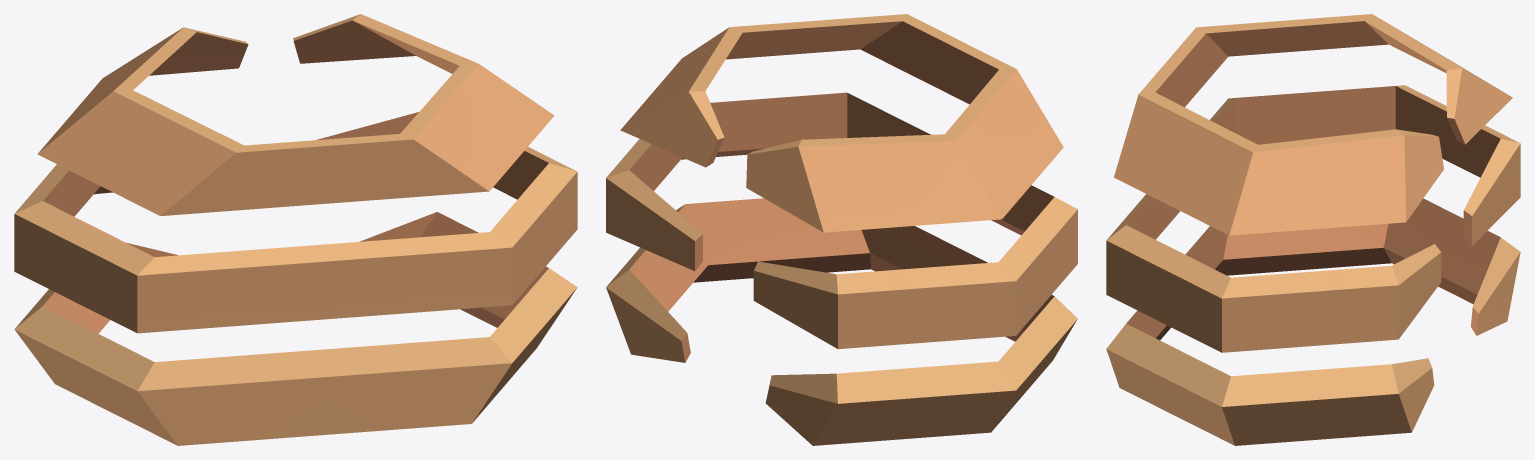
The model's file is UniquePotatoes.fbx.
The picture shows the model from 3 angles, left to right: view 1: azimuth 30°, elevation 25°; view 2: azimuth 150°, elevation 25°; view 3: azimuth 270°, elevation 25°; orthographic projection. The views are drawn at different scales.
Visible parts, largest first — view 1: UniquePotatoes; view 2: UniquePotatoes; view 3: UniquePotatoes.
Part boxes in pixels (x1,y1,x2,y2): UniquePotatoes: [14, 14, 577, 445]; UniquePotatoes: [606, 14, 1077, 445]; UniquePotatoes: [1106, 14, 1520, 445].
Bounding box in the file's own units: 88.33 × 52.37 × 72.49.
